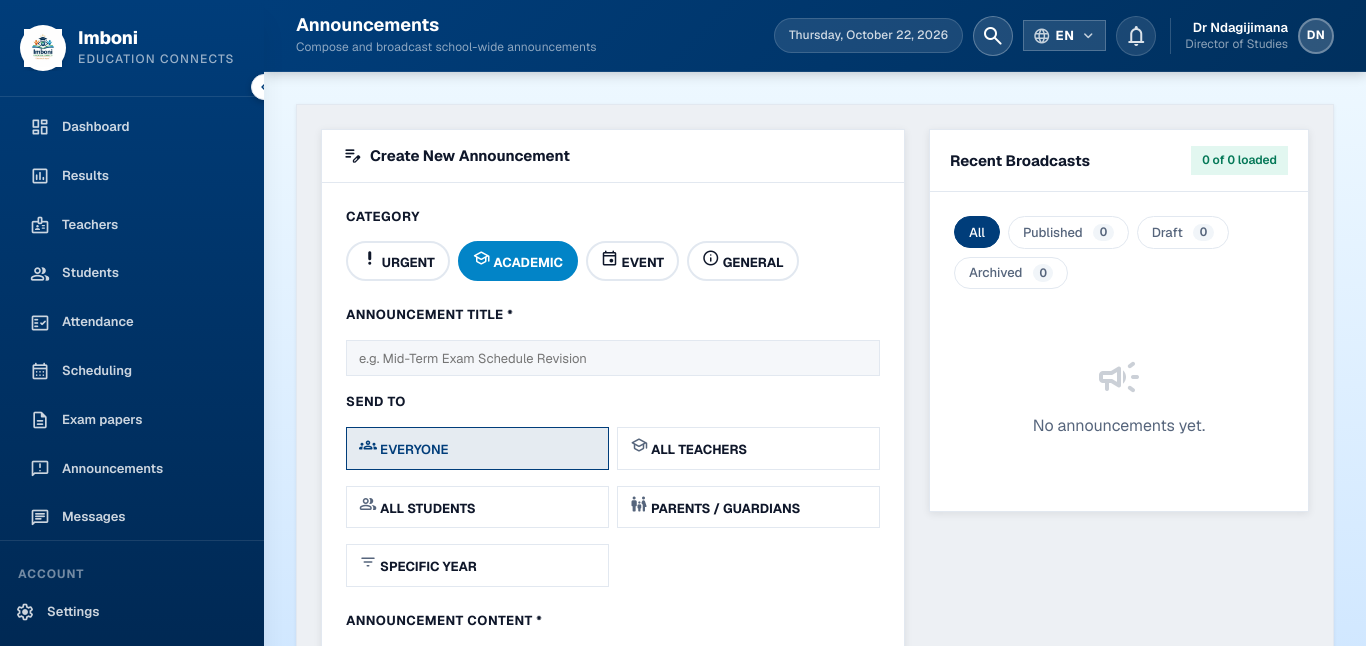
it: DosAnnouncement › shows the "no year groups found" message when grade_specific is selected and config has no years
The width and height of the screenshot is (1366, 646).
Expected: the text "No announcements yet." is shown, 1033,413 -> 1205,438
Click the radio button labelled "Specific Year".
click(478, 566)  # box 346,544 -> 609,587
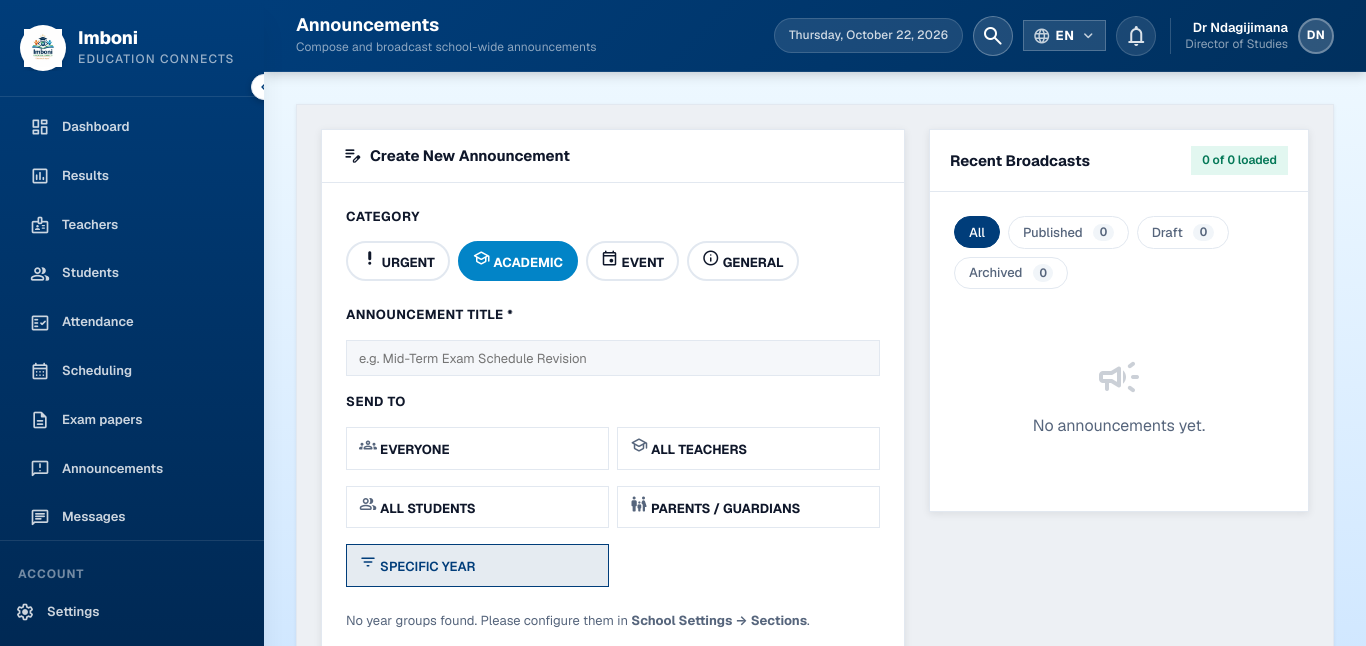
Now the text "No year groups found." is shown, box 346,612 -> 628,629
